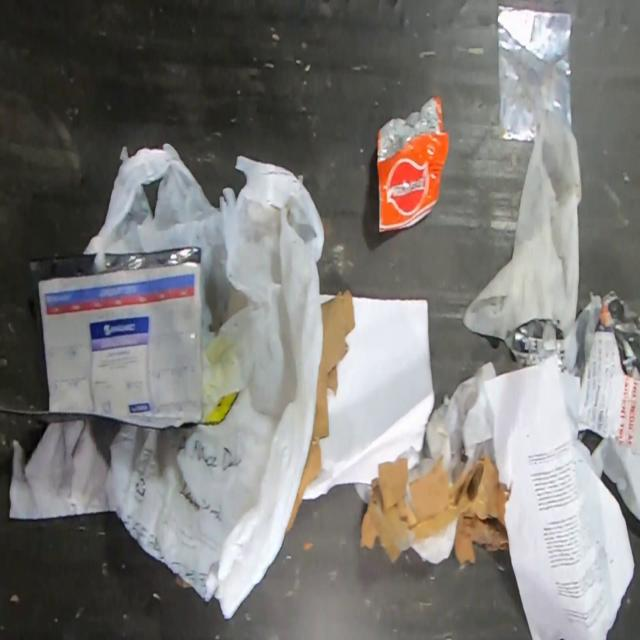cardboard: (358, 452, 511, 565), (286, 289, 355, 531)
rigid_plastic: (495, 4, 576, 143)
soft_plastic: (103, 141, 325, 620), (1, 247, 202, 429), (376, 95, 450, 233)
